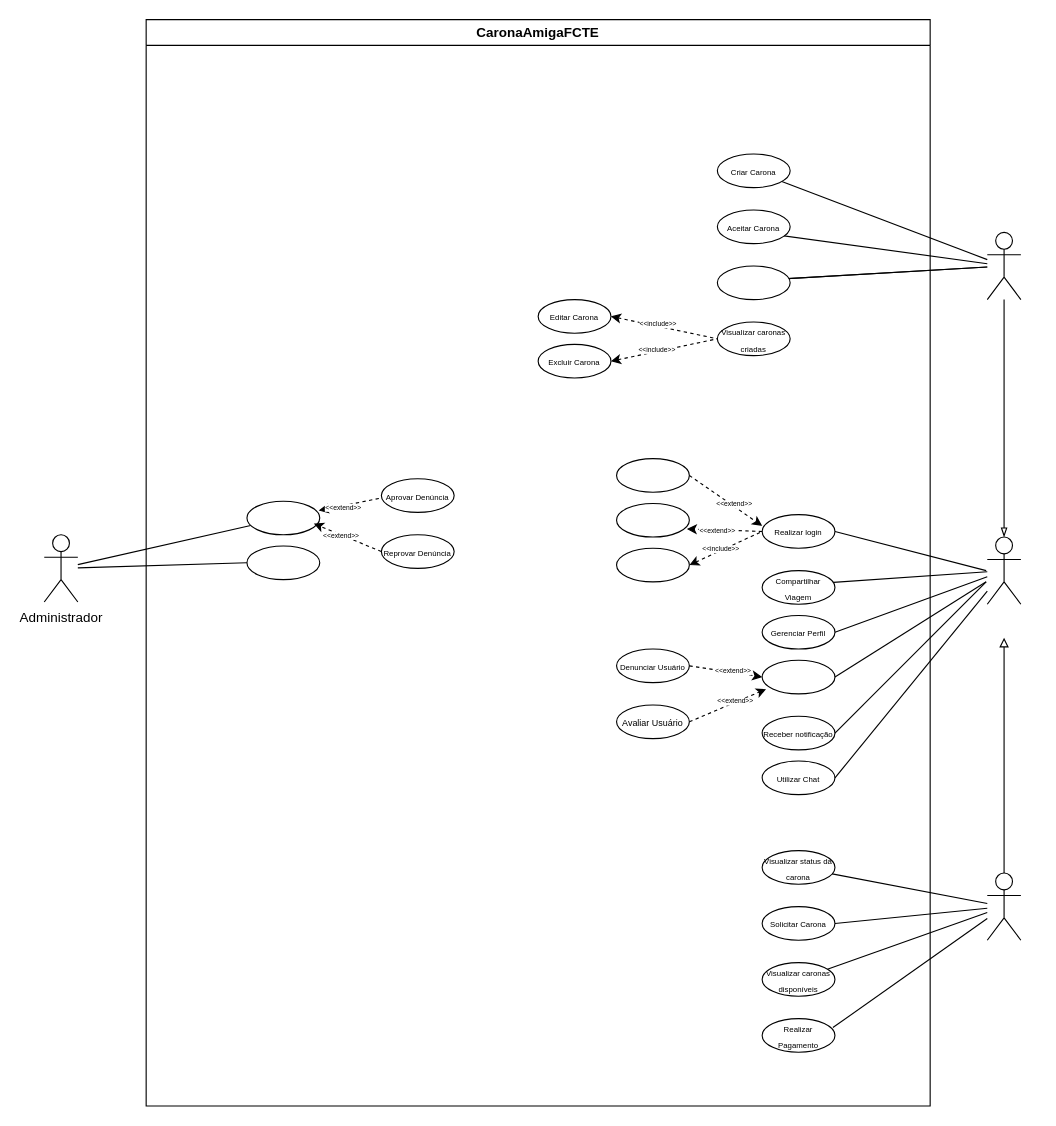
The diagram is 1056 pixels wide and 1126 high, and some of its shapes have lost their labels. The centre of each missing label's shape, as x and y in pixels:
"Confirmar credenciais" goes at (652,564).
"Motorista" goes at (1003,265).
"Passageiro" goes at (1003,906).
"Realizar cadastro" goes at (652,519).
"Recuperar Senha" goes at (652,475).
"Rejeitar Carona" goes at (753,282).
"Usuário" goes at (1003,570).
"Visualizar denuncías" goes at (283,517).
"Visualizar histórico de caronas" goes at (798,676).
"Visualizar Usuários" goes at (283,562).
